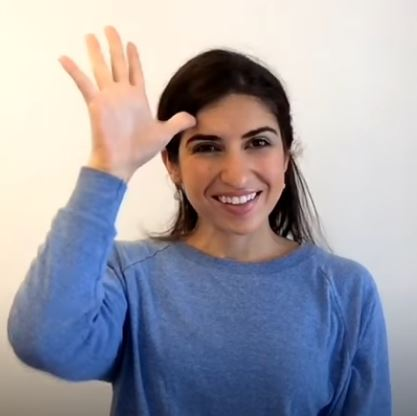dad: (58, 27, 289, 171)
